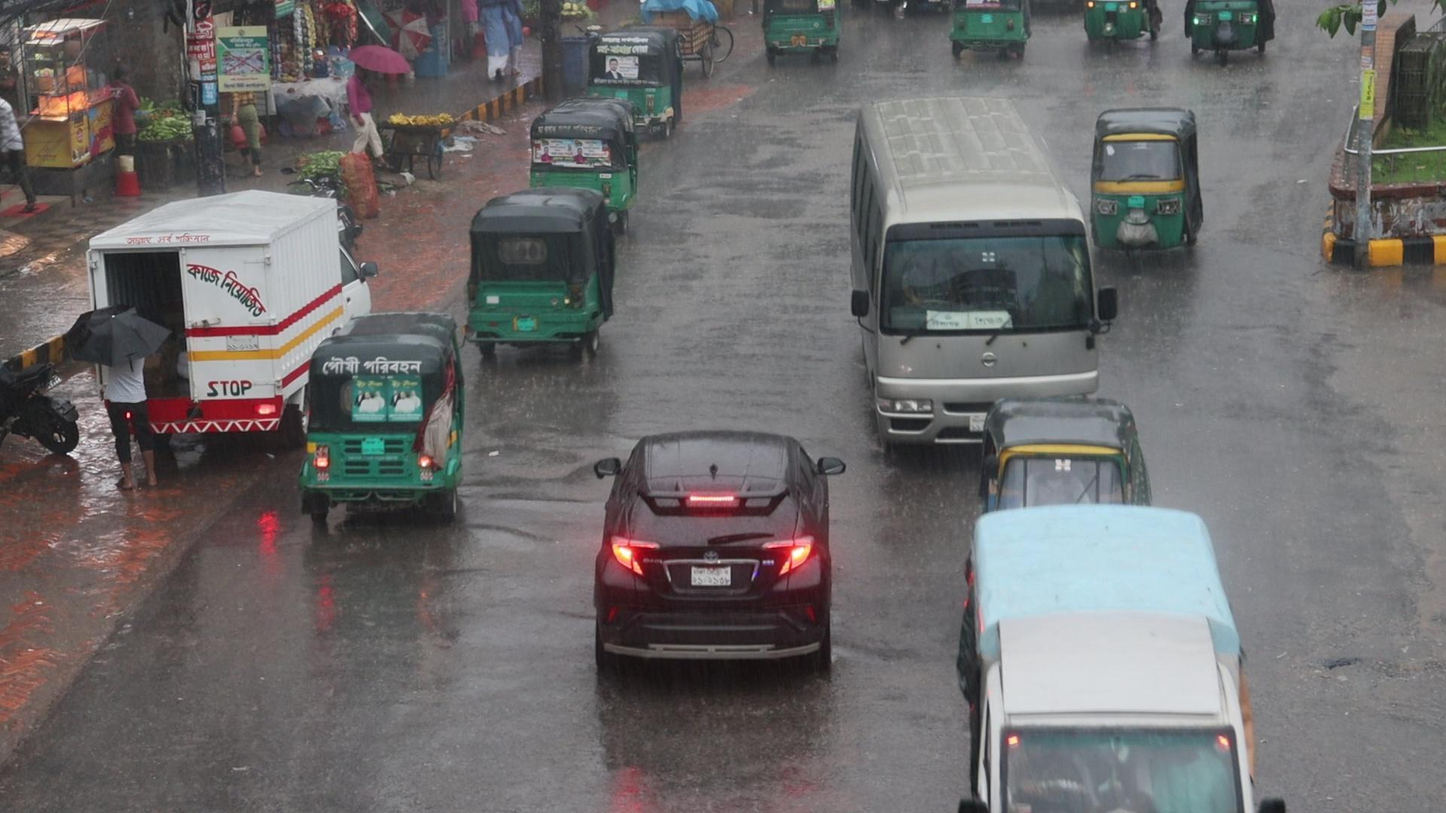Bus: (847, 93, 1102, 397)
Car: (589, 423, 848, 685)
Truck: (950, 501, 1275, 813)
